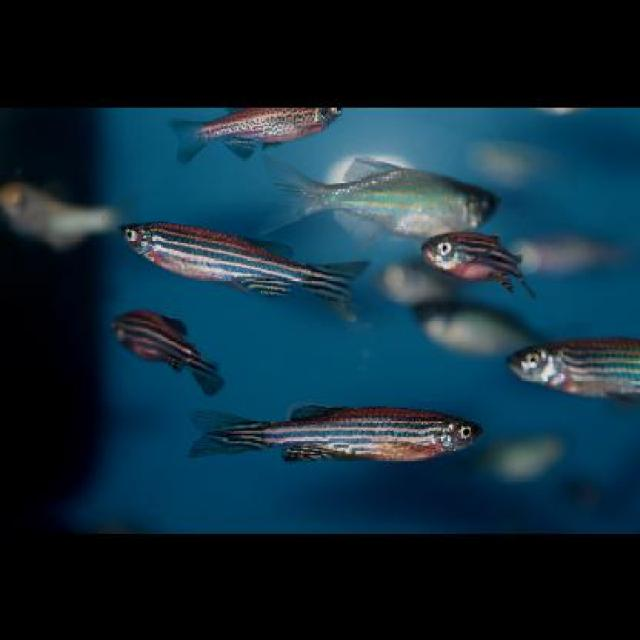ZebraFish: (116, 215, 361, 318), (176, 399, 479, 459)
